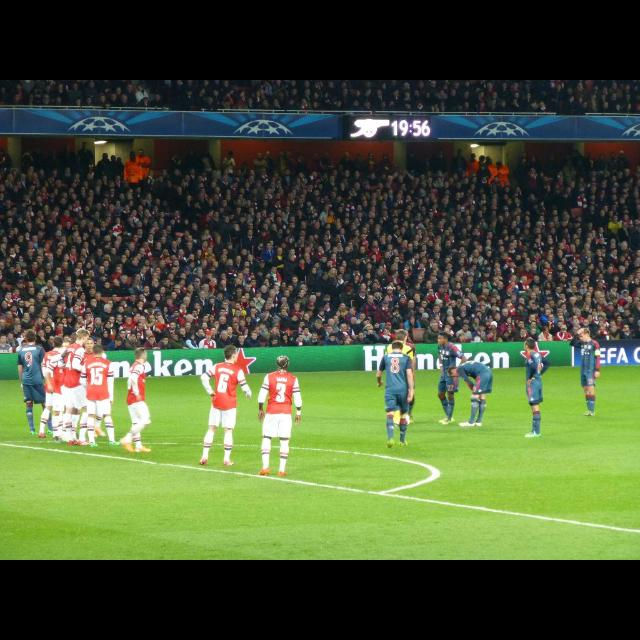Football: (404, 414, 408, 424)
